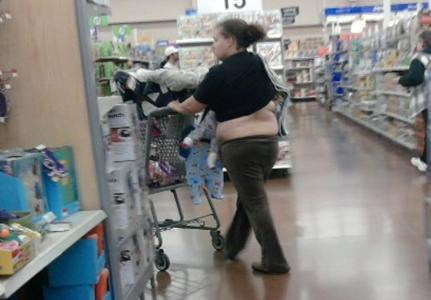person: (166, 14, 295, 279)
